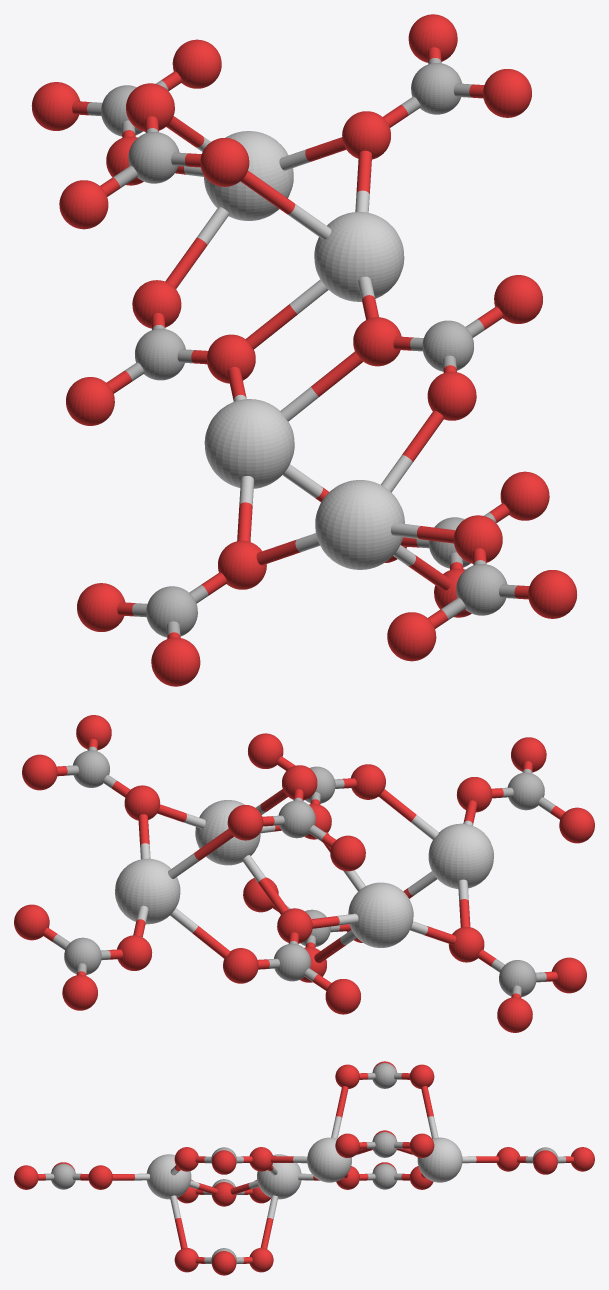
File: silvercarbonate.dae
The picture shows the model from 3 angles, top to bottom: view 1: azimuth 30°, elevation 25°; view 2: azimuth 150°, elevation 25°; view 3: azimuth 270°, elevation 25°; orthographic projection. The views are drawn at different scales.
Parts seen in each view (by area): view 1: Ball_Silver_004, Ball_Silver_001, Ball_Silver_003, Ball_Silver_002, Ball_Carbon_001, Ball_Carbon_004, Ball_Carbon_006, Ball_Carbon_008, Ball_Carbon_002, Ball_Carbon_003, Ball_Oxygen_015, Ball_Oxygen_020 (+21 smaller); view 2: Ball_Silver_001, Ball_Silver_004, Ball_Silver_002, Ball_Silver_003, Ball_Carbon_004, Ball_Carbon_001, Ball_Carbon_006, Ball_Carbon_008, Ball_Carbon_007, Ball_Carbon_003, Ball_Oxygen_024, Ball_Oxygen_016 (+22 smaller); view 3: Ball_Silver_002, Ball_Silver_003, Ball_Silver_001, Ball_Silver_004, Ball_Carbon_004, Ball_Carbon_001, Ball_Carbon_006, Ball_Carbon_008, Ball_Oxygen_008, Ball_Oxygen_017, Ball_Oxygen_001, Ball_Oxygen_019 (+14 smaller).
Boxes of the visible parts, x1=… form: Ball_Silver_004: x1=204, y1=399, x2=294, y2=488; Ball_Silver_001: x1=315, y1=480, x2=404, y2=569; Ball_Silver_003: x1=314, y1=212, x2=404, y2=301; Ball_Silver_002: x1=204, y1=131, x2=293, y2=220; Ball_Carbon_001: x1=135, y1=328, x2=185, y2=380; Ball_Carbon_004: x1=456, y1=564, x2=507, y2=615; Ball_Carbon_006: x1=128, y1=132, x2=179, y2=183; Ball_Carbon_008: x1=411, y1=63, x2=461, y2=114; Ball_Carbon_002: x1=422, y1=320, x2=473, y2=371; Ball_Carbon_003: x1=146, y1=586, x2=197, y2=637; Ball_Oxygen_015: x1=151, y1=637, x2=200, y2=686; Ball_Oxygen_020: x1=59, y1=180, x2=108, y2=229; Ball_Silver_001: x1=428, y1=823, x2=493, y2=888; Ball_Silver_004: x1=348, y1=882, x2=413, y2=947; Ball_Silver_002: x1=115, y1=858, x2=180, y2=924; Ball_Silver_003: x1=195, y1=800, x2=260, y2=865; Ball_Carbon_004: x1=507, y1=772, x2=544, y2=810; Ball_Carbon_001: x1=274, y1=943, x2=310, y2=981; Ball_Carbon_006: x1=278, y1=800, x2=315, y2=838; Ball_Carbon_008: x1=73, y1=750, x2=109, y2=787; Ball_Carbon_007: x1=64, y1=937, x2=101, y2=974; Ball_Carbon_003: x1=499, y1=960, x2=536, y2=997; Ball_Oxygen_024: x1=22, y1=754, x2=57, y2=790; Ball_Oxygen_016: x1=497, y1=997, x2=532, y2=1032; Ball_Silver_002: x1=417, y1=1137, x2=462, y2=1182; Ball_Silver_003: x1=307, y1=1137, x2=351, y2=1182; Ball_Silver_001: x1=146, y1=1154, x2=191, y2=1199; Ball_Silver_004: x1=257, y1=1154, x2=301, y2=1199; Ball_Carbon_004: x1=51, y1=1163, x2=75, y2=1189; Ball_Carbon_001: x1=372, y1=1163, x2=397, y2=1189; Ball_Carbon_006: x1=372, y1=1063, x2=397, y2=1088; Ball_Carbon_008: x1=372, y1=1132, x2=397, y2=1157; Ball_Oxygen_008: x1=88, y1=1165, x2=112, y2=1189; Ball_Oxygen_017: x1=14, y1=1165, x2=38, y2=1189; Ball_Oxygen_001: x1=212, y1=1150, x2=236, y2=1174; Ball_Oxygen_019: x1=212, y1=1251, x2=236, y2=1275.
Size of the model in its own units: 9.18 by 17.27 by 6.16.
